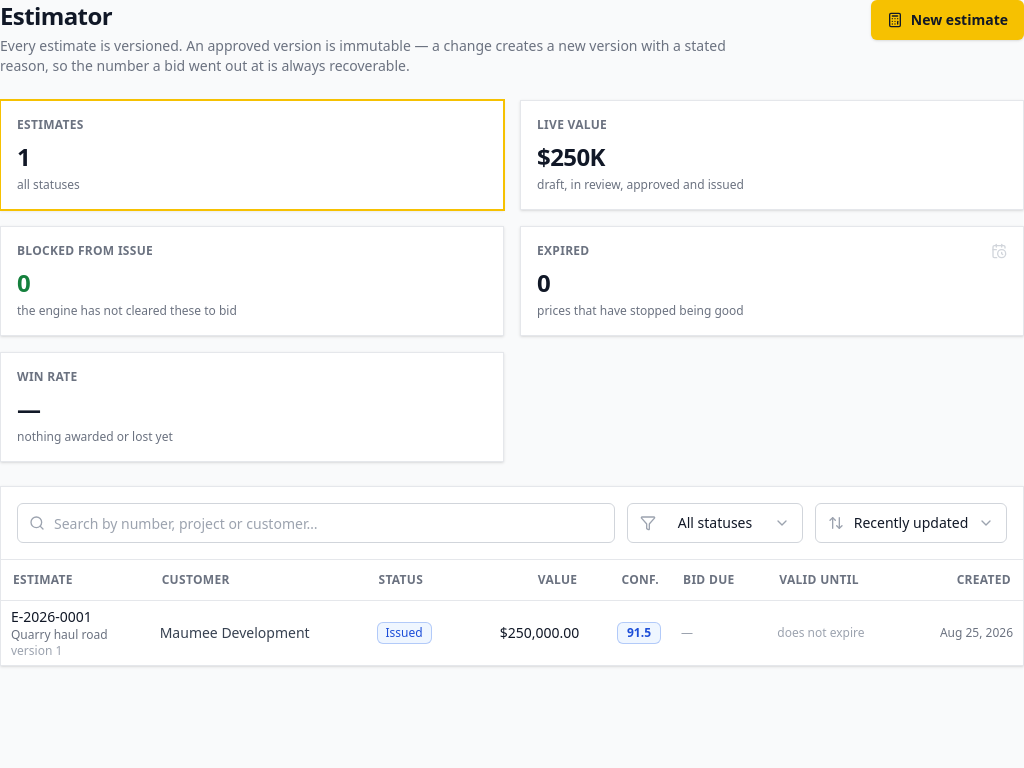
Test case: the estimating screen › the site on a new estimate › asks for it, and says what it is for
The image size is (1024, 768).
Expected: the link "E-2026-0001" is shown, [11, 606, 92, 626]
Click the button "New estimate" at {"x": 947, "y": 20}, box [871, 0, 1023, 40]
(page scrolled)
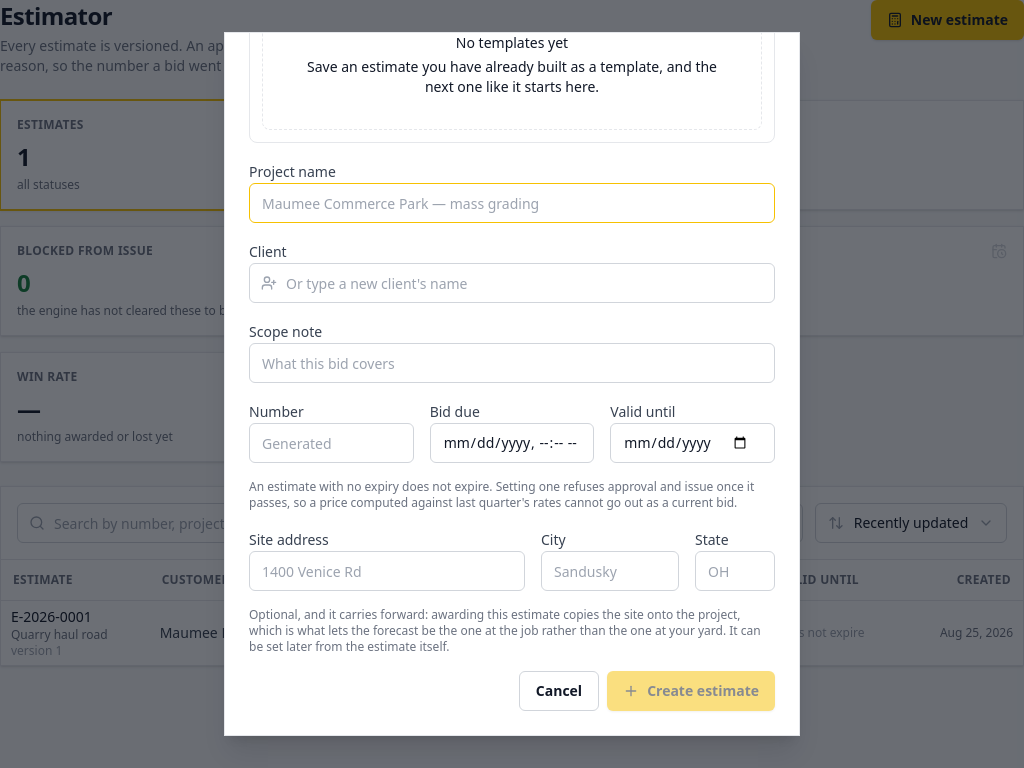
Now the field labelled "Site address" is shown, box [249, 551, 525, 591]
Now the field labelled "City" is shown, box [541, 551, 679, 591]
Now the field labelled "State" is shown, box [695, 551, 775, 591]
